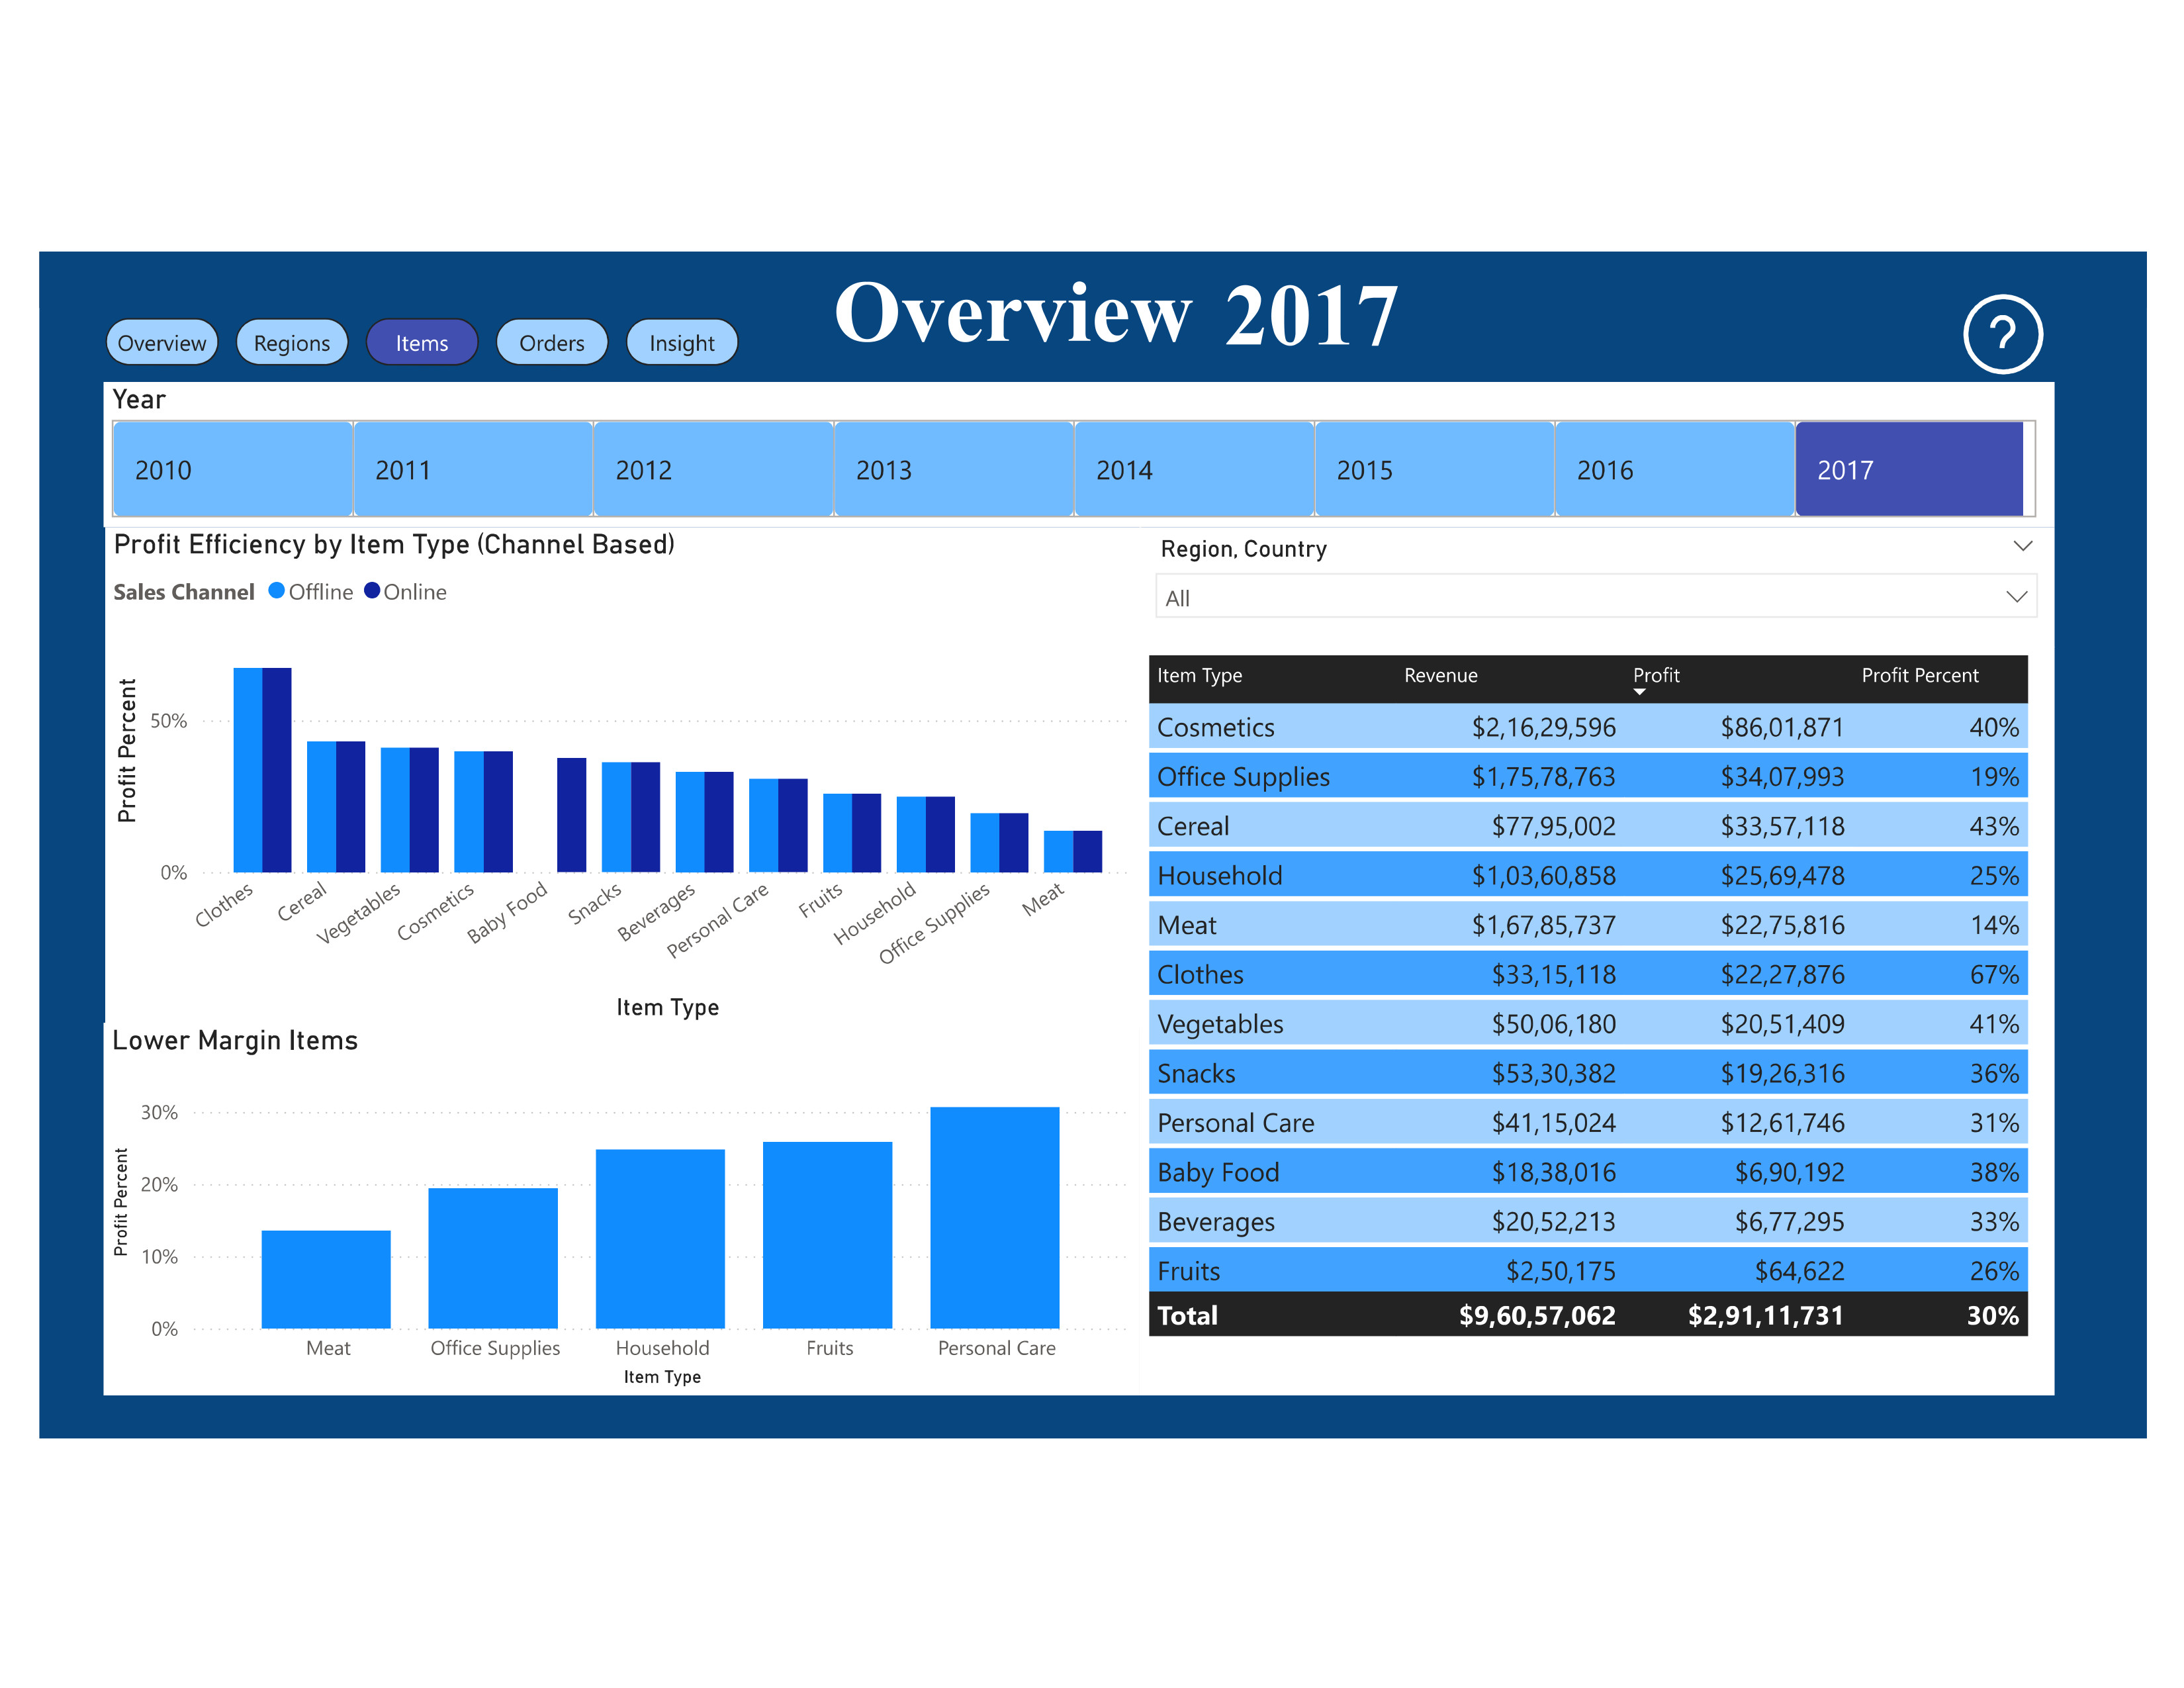

Layout of this report page (visuals, bound fields, positions):
{"tool":"powerbi","page":{"name":"Items","canvas":[1280,720],"ordinal":2},"visuals":[{"type":"textbox","box":[457.1,0,269.1,100.9],"z":0},{"type":"advancedSlicerVisual","fields":{"Values":["Date.Year"]},"box":[38.6,79.4,1185.3,88],"z":1000},{"type":"pageNavigator","box":[40.5,40.5,385.7,28.6],"z":3000},{"type":"card","fields":{"Values":["Records.This.Year"]},"box":[688.6,0,168.2,67.3],"z":4000},{"type":"clusteredColumnChart","title":"Lower Margin Items","fields":{"Category":["Items.Item Type"],"Y":["Records.Profit Percent"]},"box":[38.6,468.1,629.1,225.5],"z":5000},{"type":"tableEx","title":"Revenue by Region","fields":{"Values":["Items.Item Type","Records.This.Revenue","Records.This.Profit","Records.Profit Percent"]},"box":[667.8,240.5,556.1,453.1],"z":6000},{"type":"clusteredColumnChart","title":"Profit Efficiency by Item Type (Channel Based)","fields":{"Category":["Items.Item Type"],"Series":["Records.Sales Channel"],"Y":["Records.Profit Percent"]},"box":[39.6,166.7,629.4,304.3],"z":7000},{"type":"slicer","fields":{"Values":["Country.Region","Country.Country"]},"box":[667.8,167.5,556.1,73],"z":8000},{"type":"image","box":[0,0,1278.3,722.1],"z":8001},{"type":"actionButton","box":[1161.9,19,61.9,64.3],"z":8002}]}

Visuals, with their boxes on the page's 1280x720 design canvas (x1, y1, x2, y2). These are canvas units, not pixel positions in the 2184x1688 screenshot, which may show the page scaled, cropped or inside an application window:
textbox: [457,0,726,101]
advancedSlicerVisual - Date.Year: [39,79,1224,167]
pageNavigator: [40,40,426,69]
card - Records.This.Year: [689,0,857,67]
"Lower Margin Items" clusteredColumnChart: [39,468,668,694]
"Revenue by Region" tableEx: [668,240,1224,694]
"Profit Efficiency by Item Type (Channel Based)" clusteredColumnChart: [40,167,669,471]
slicer - Country.Region x Country.Country: [668,168,1224,240]
image: [0,0,1278,722]
actionButton: [1162,19,1224,83]
